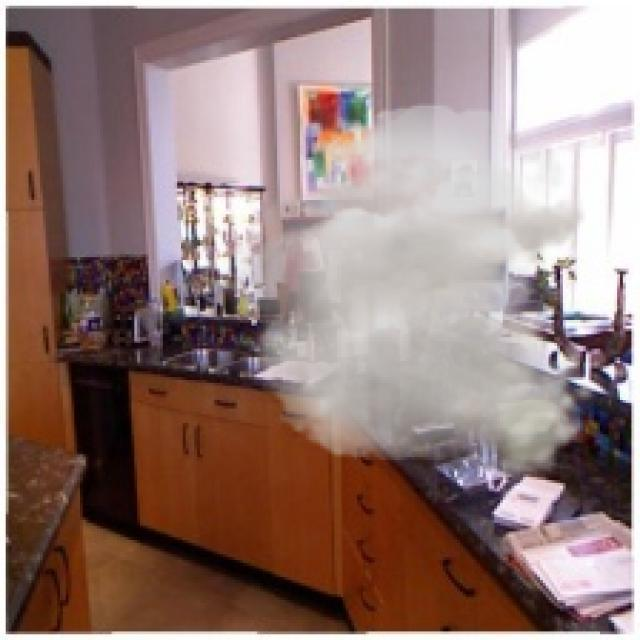Smoke: (200, 102, 597, 478)
